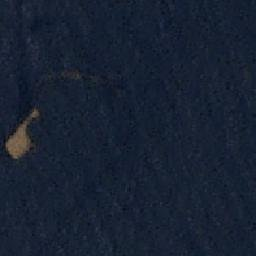debris: (4, 129, 30, 159), (20, 117, 31, 130), (30, 110, 39, 119)
